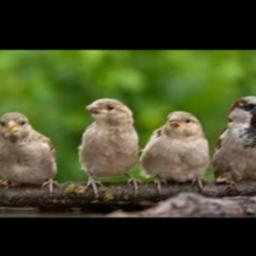Sparrow: (79, 98, 142, 196), (140, 111, 210, 189), (0, 112, 59, 196), (211, 95, 256, 189)
